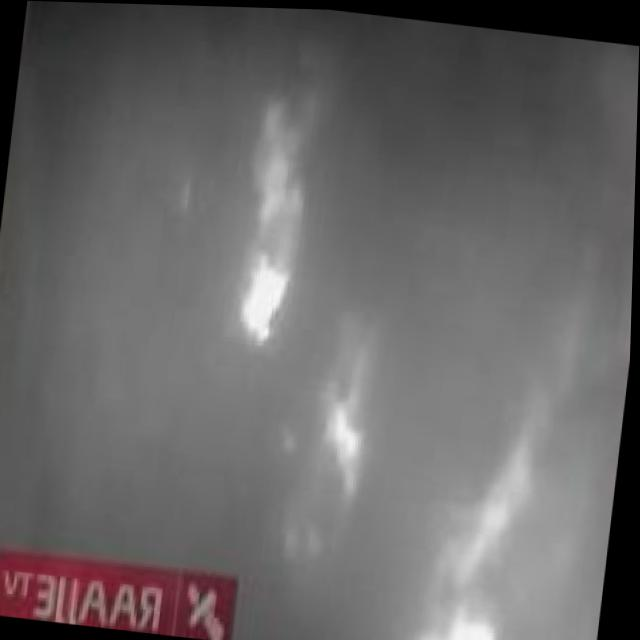fire: (221, 218, 312, 358), (307, 357, 384, 512), (397, 579, 531, 640)
